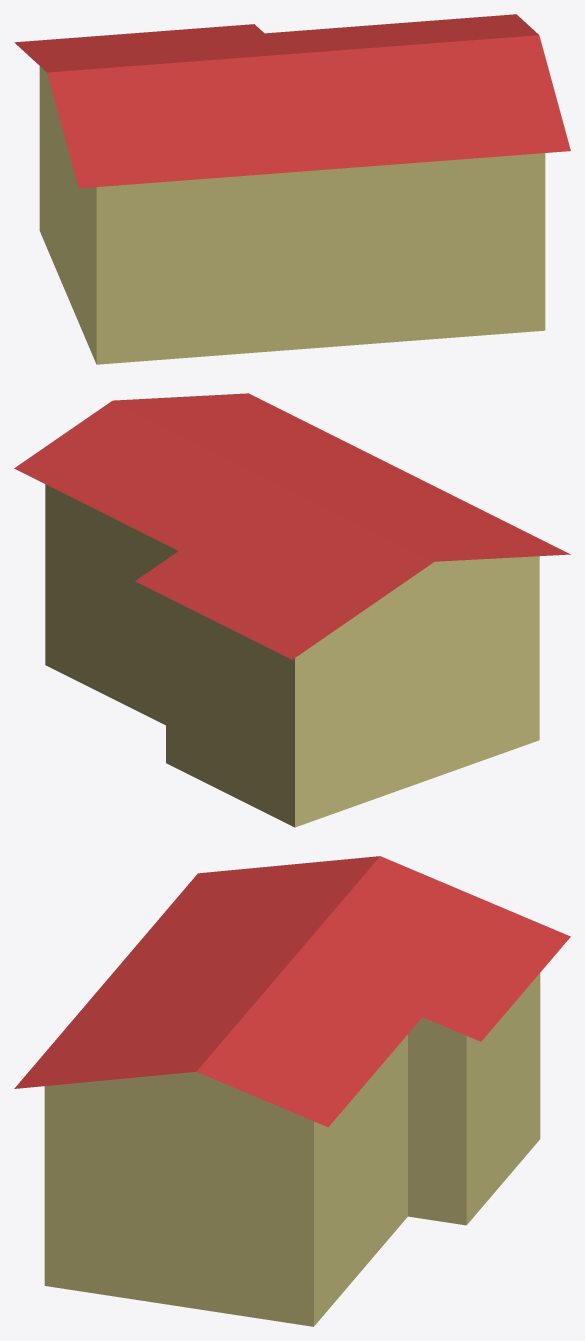
3 renders of one model, top to bottom at view 1: azimuth 30°, elevation 25°; view 2: azimuth 150°, elevation 25°; view 3: azimuth 270°, elevation 25°, orthographic. The views are drawn at different scales.
Bounding box in the file's own units: 19.42 × 17.35 × 8.52.
